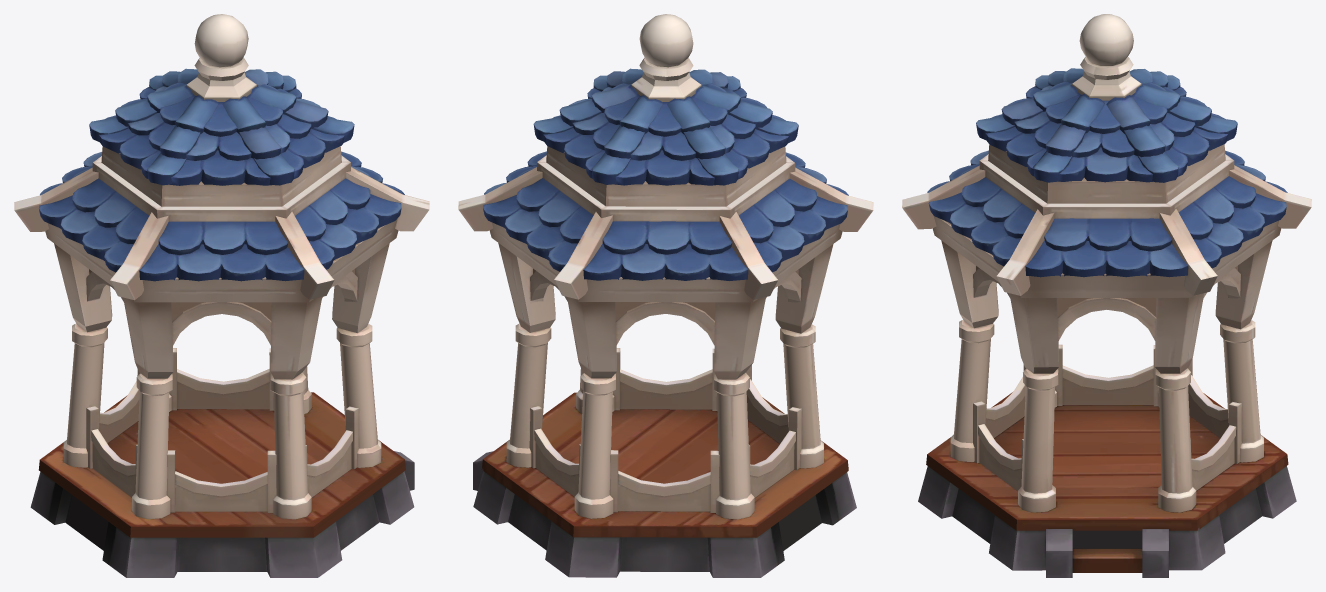
The model's file is PavilionFarm_90 Variant.fbx.
3 renders of one model, left to right at view 1: azimuth 30°, elevation 25°; view 2: azimuth 150°, elevation 25°; view 3: azimuth 270°, elevation 25°, orthographic.
Visible parts, largest first — view 1: PavilionFarm; view 2: PavilionFarm; view 3: PavilionFarm.
Boxes of the visible parts, x1,y1,x2,y2 form: PavilionFarm: (14, 14, 429, 577); PavilionFarm: (458, 14, 873, 577); PavilionFarm: (902, 14, 1311, 577).
Size of the model in its own units: 2.5 by 3.65 by 2.8.
Materials: 1 (1 with a texture image).
